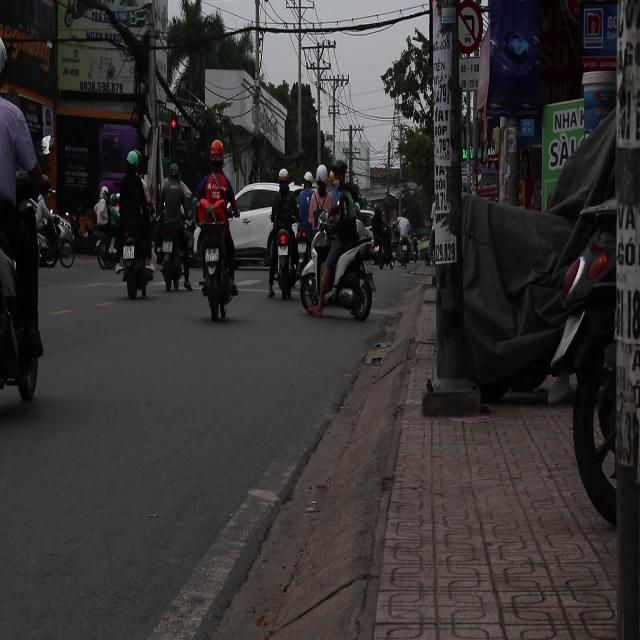motorbike: (296, 216, 378, 322), (197, 212, 239, 336), (35, 199, 75, 268), (160, 214, 191, 302), (118, 232, 154, 299), (71, 209, 100, 256), (276, 228, 294, 302), (94, 224, 121, 271)
